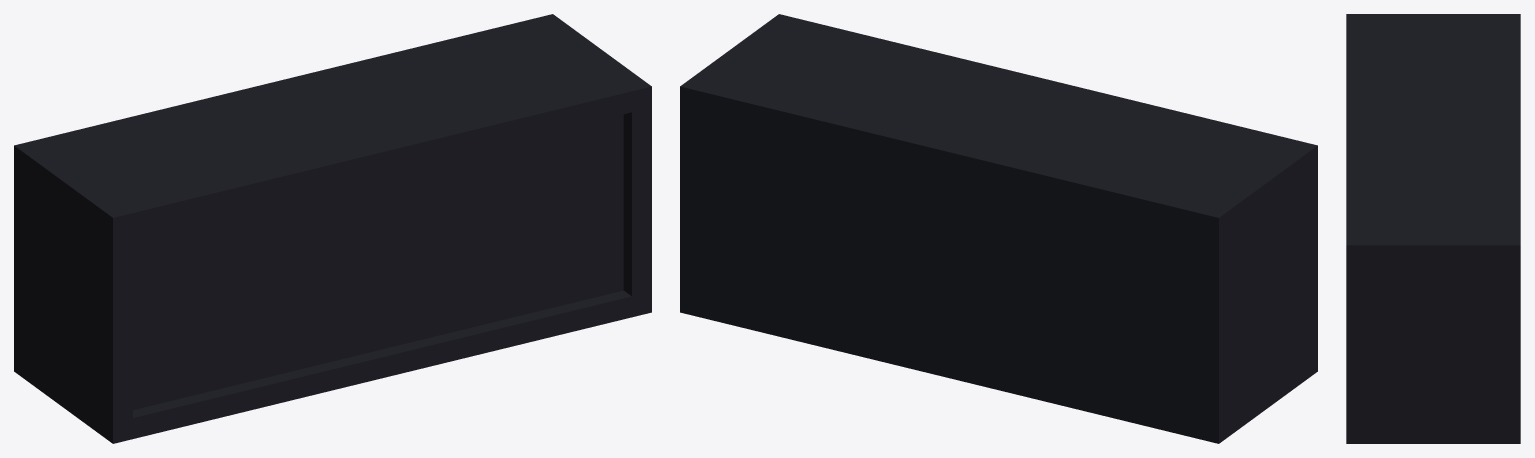
File: normal_timer.glb
3 renders of one model, left to right at view 1: azimuth 30°, elevation 25°; view 2: azimuth 150°, elevation 25°; view 3: azimuth 270°, elevation 25°, orthographic. The views are drawn at different scales.
Parts seen in each view (by area): view 1: Normal Timer; view 2: Normal Timer; view 3: Normal Timer.
Boxes of the visible parts, x1,y1,x2,y2 form: Normal Timer: [14, 14, 651, 443]; Normal Timer: [680, 14, 1317, 443]; Normal Timer: [1346, 14, 1520, 443].
Bounding box in the file's own units: 2.5 × 1 × 0.7944.
Materials: 1 (1 with a texture image).
